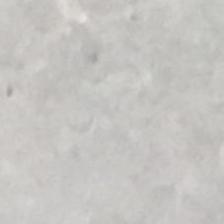Non_Crack: (50, 24, 205, 214)
